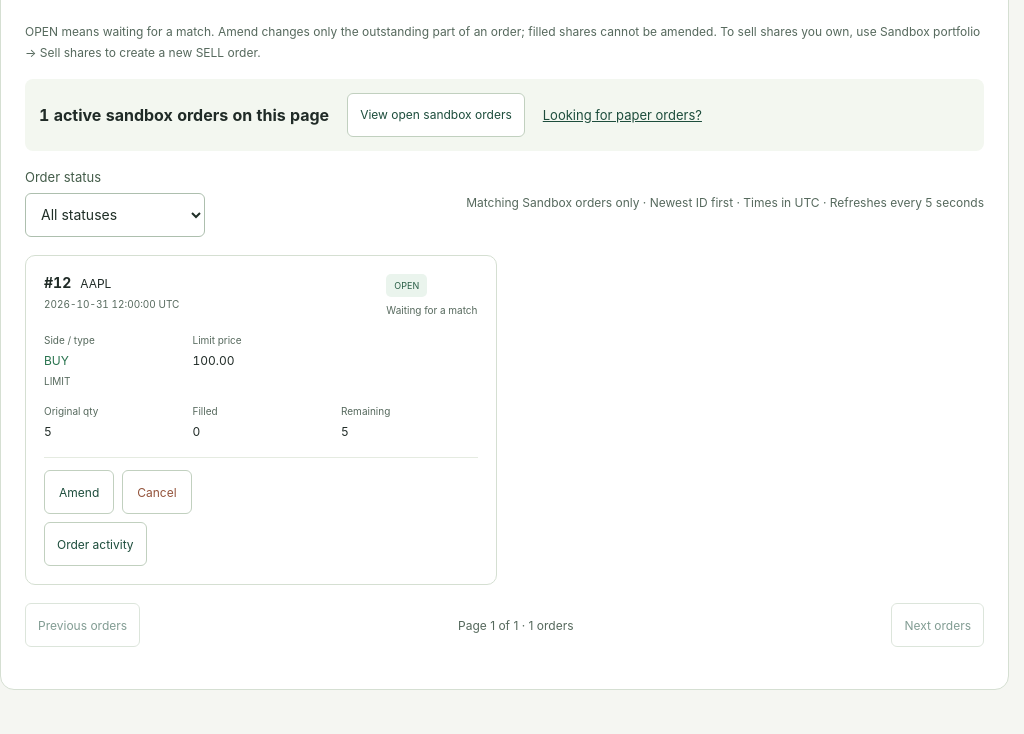
Test case: refreshes a stale terminal row after a 409 conflict
(page scrolled)
Click the button with aria-label "Cancel #12" at (157, 492), box [122,470,192,514]
(page scrolled)
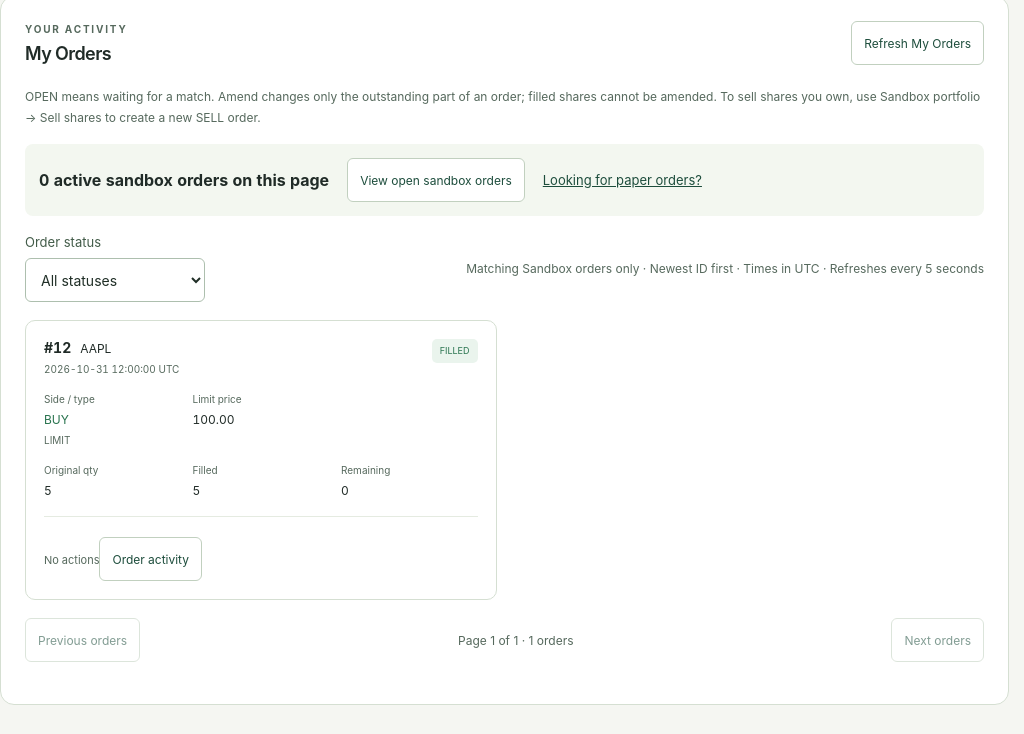
Expected: the text "FILLED" is shown, [432,339,478,363]
